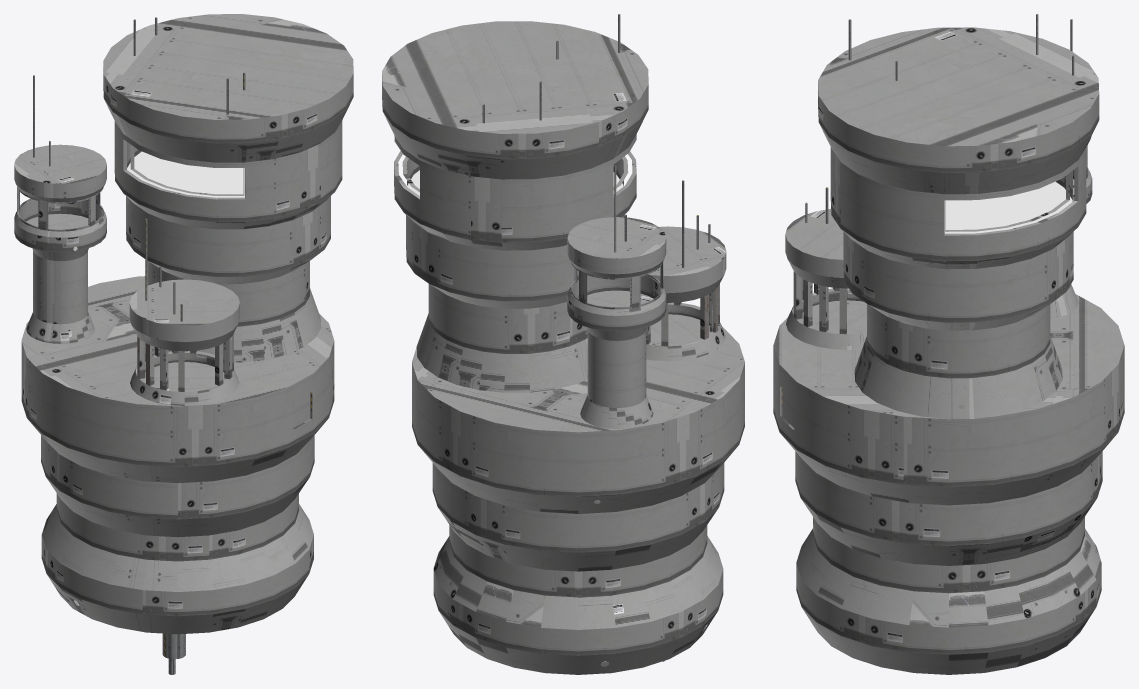
3 views of the same model, side by side, from view 1: azimuth 30°, elevation 25°; view 2: azimuth 150°, elevation 25°; view 3: azimuth 270°, elevation 25° (orthographic). The views are drawn at different scales.
Parts seen in each view (by area): view 1: Material2.001, Material2.007, Material2.005, Material2.009, Material2.019, Material2.056, Material2.058, Material2.013, Material2.057, Material2.018, Material2.021, Material2.060 (+2 smaller); view 2: Material2.001, Material2.007, Material2.005, Material2.009, Material2.056, Material2.058, Material2.019, Material2.057, Material2.060, Material2.018, Material2.021, Material2.010 (+1 smaller); view 3: Material2.001, Material2.007, Material2.005, Material2.009, Material2.013, Material2.019, Material2.018, Material2.021, Material2.010, Material2.056.
Boxes of the visible parts, left/top/right/bottom form: Material2.001: left=21, top=276, right=334, bottom=634; Material2.007: left=103, top=14, right=353, bottom=162; Material2.005: left=124, top=192, right=334, bottom=362; Material2.009: left=114, top=120, right=342, bottom=222; Material2.019: left=129, top=279, right=239, bottom=351; Material2.056: left=26, top=248, right=94, bottom=343; Material2.058: left=14, top=144, right=106, bottom=202; Material2.013: left=127, top=151, right=244, bottom=197; Material2.057: left=14, top=199, right=106, bottom=252; Material2.018: left=130, top=351, right=239, bottom=405; Material2.021: left=145, top=352, right=224, bottom=389; Material2.060: left=19, top=200, right=102, bottom=229; Material2.001: left=412, top=327, right=744, bottom=674; Material2.007: left=382, top=21, right=648, bottom=179; Material2.005: left=404, top=211, right=627, bottom=392; Material2.009: left=394, top=134, right=636, bottom=242; Material2.056: left=580, top=327, right=653, bottom=428; Material2.058: left=567, top=217, right=666, bottom=278; Material2.019: left=649, top=226, right=726, bottom=302; Material2.057: left=567, top=275, right=666, bottom=331; Material2.060: left=572, top=275, right=661, bottom=307; Material2.018: left=646, top=302, right=725, bottom=361; Material2.021: left=650, top=304, right=709, bottom=343; Material2.010: left=402, top=156, right=628, bottom=192; Material2.001: left=773, top=294, right=1124, bottom=674; Material2.007: left=818, top=27, right=1099, bottom=194; Material2.005: left=841, top=227, right=1077, bottom=418; Material2.009: left=830, top=147, right=1086, bottom=261; Material2.013: left=944, top=181, right=1072, bottom=233; Material2.019: left=785, top=209, right=848, bottom=288; Material2.018: left=786, top=288, right=866, bottom=349; Material2.021: left=802, top=290, right=866, bottom=331; Material2.010: left=945, top=170, right=1072, bottom=231; Material2.056: left=1050, top=284, right=1078, bottom=318.
Bounding box in the file's own units: 1237 × 2329 × 1121.
7 materials, 6 textured.
